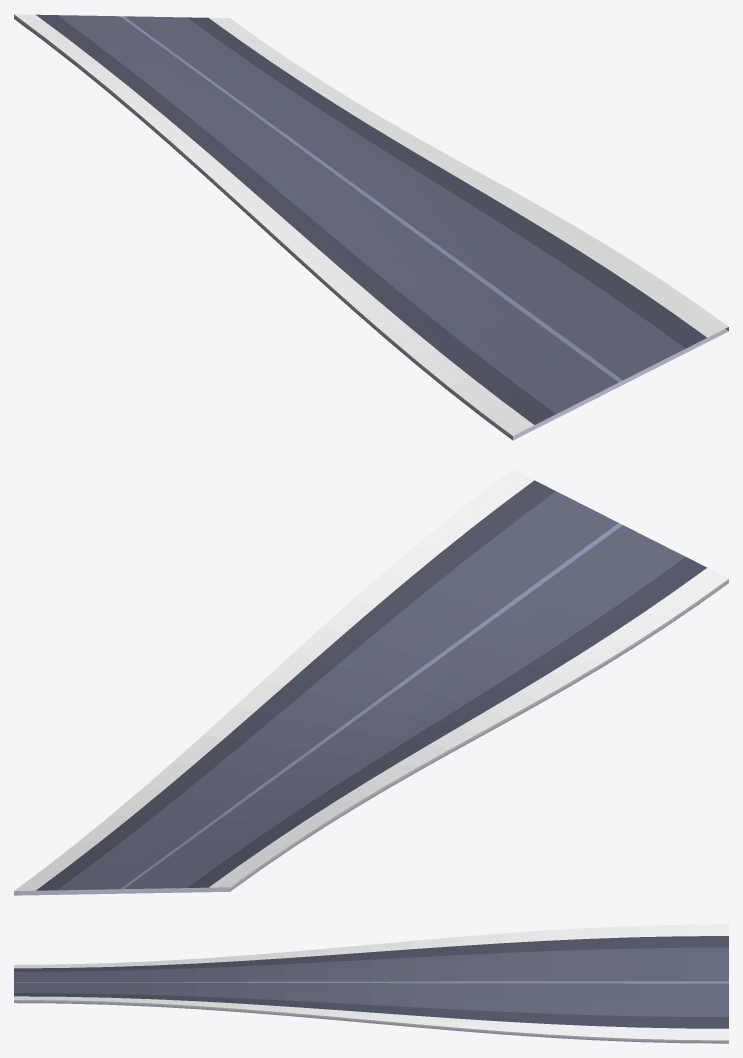
The model's file is road-Straight-HalfBankedLeft-HalfBankedRight-Even-Center-Size4.glb.
The picture shows the model from 3 angles, top to bottom: view 1: azimuth 30°, elevation 25°; view 2: azimuth 150°, elevation 25°; view 3: azimuth 270°, elevation 25°; orthographic projection. The views are drawn at different scales.
Visible parts, largest first — view 1: road-Straight-HalfBankedLeft-HalfBankedRight-Even-Center-Siz; view 2: road-Straight-HalfBankedLeft-HalfBankedRight-Even-Center-Siz; view 3: road-Straight-HalfBankedLeft-HalfBankedRight-Even-Center-Siz.
Boxes of the visible parts, box(x1,y1,x2,y2) form: road-Straight-HalfBankedLeft-HalfBankedRight-Even-Center-Siz: box(14, 14, 728, 440); road-Straight-HalfBankedLeft-HalfBankedRight-Even-Center-Siz: box(14, 469, 728, 895); road-Straight-HalfBankedLeft-HalfBankedRight-Even-Center-Siz: box(14, 924, 728, 1043).
Bounding box in the file's own units: 1 × 0.27 × 4.
Materials: 1 (1 with a texture image).
